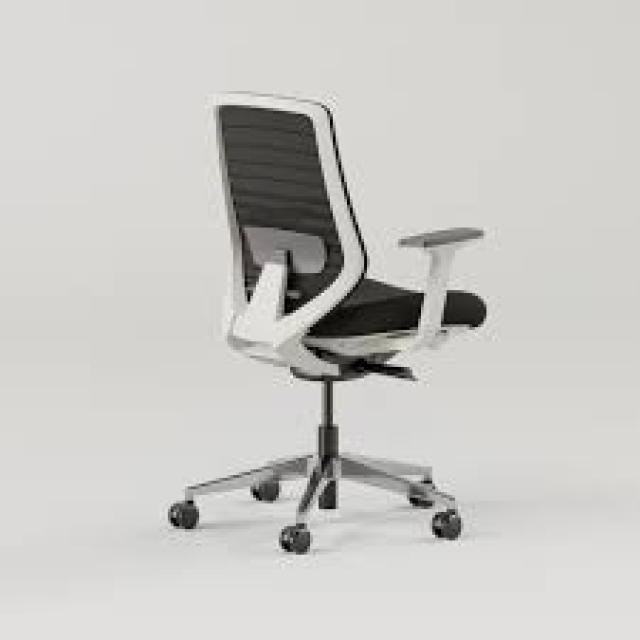chair: (90, 52, 519, 602)
